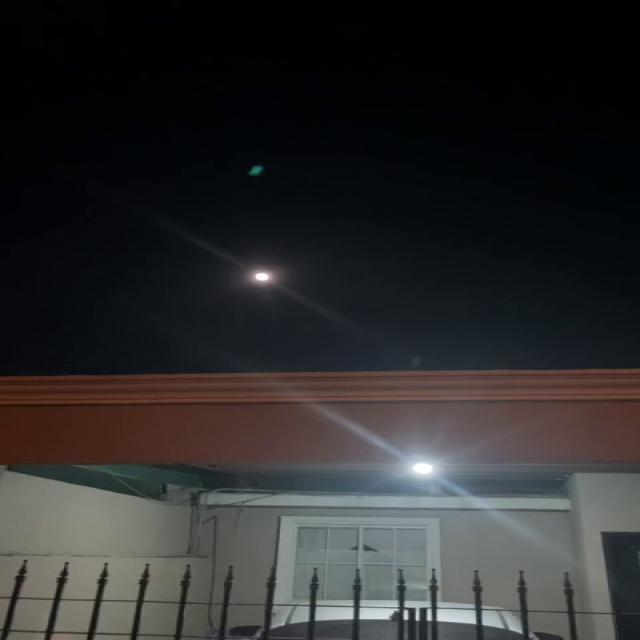moon: (255, 265, 280, 286)
